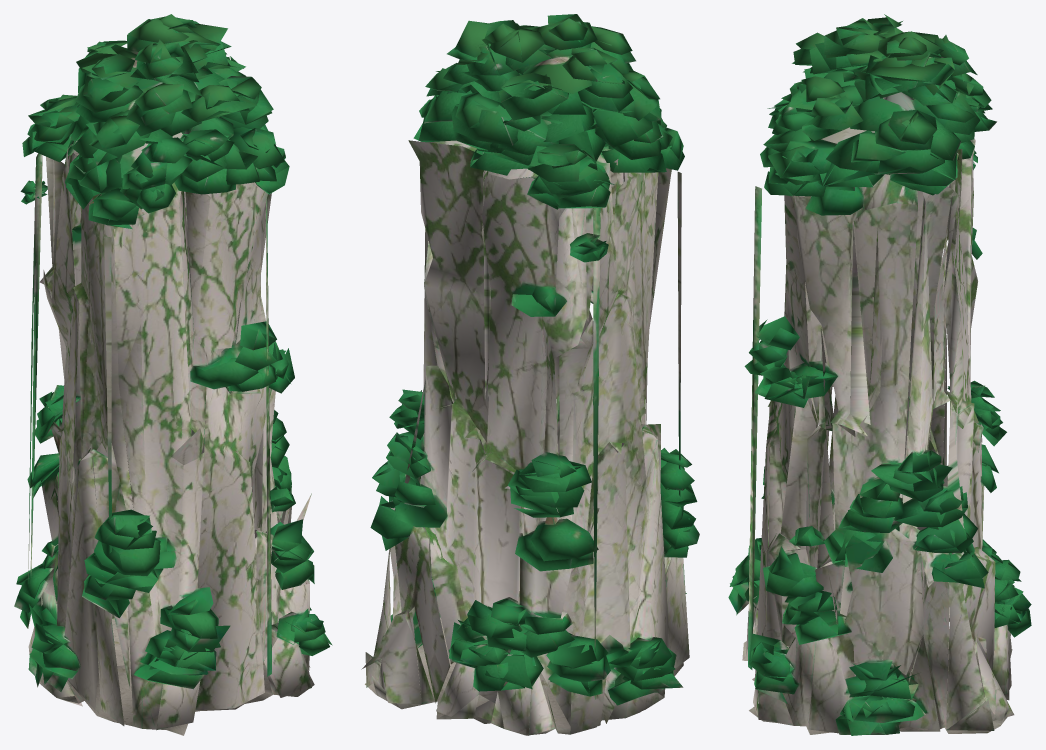
File: Karst.fbx
3 views of the same model, side by side, from view 1: azimuth 30°, elevation 25°; view 2: azimuth 150°, elevation 25°; view 3: azimuth 270°, elevation 25° (orthographic). The views are drawn at different scales.
Parts seen in each view (by area): view 1: Karst; view 2: Karst; view 3: Karst.
Boxes of the visible parts, left/top/right/bottom form: Karst: left=14, top=14, right=332, bottom=735; Karst: left=361, top=14, right=699, bottom=735; Karst: left=728, top=14, right=1031, bottom=735.
Size of the model in its own units: 11.65 by 26 by 10.85.
1 material, 1 textured.
